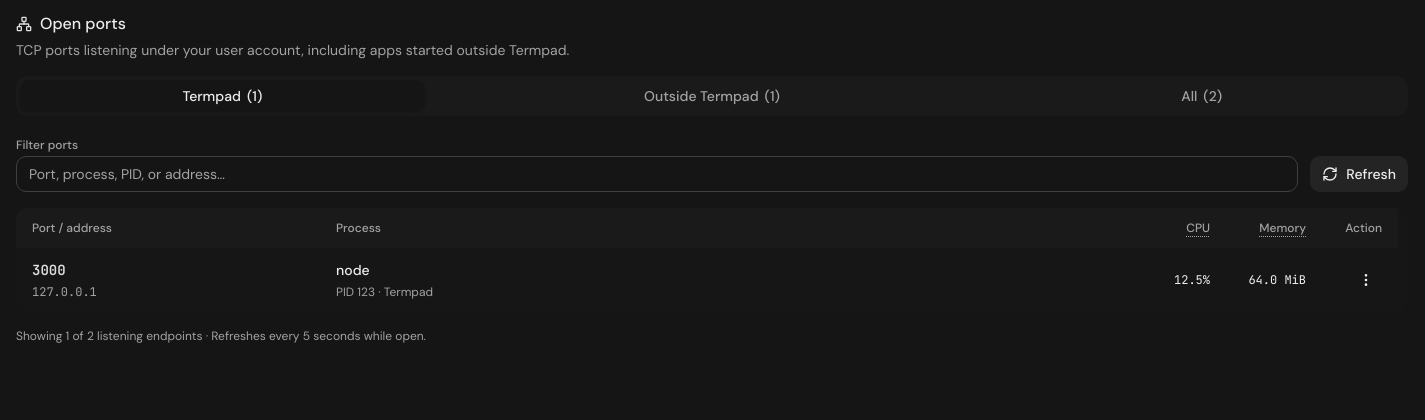
Open ports › keeps the dialog open if the terminal was closed since scanning
Press Enter in the button named "Actions for node on port 3000 (PID 123)", box left=1350, top=264, right=1382, bottom=296
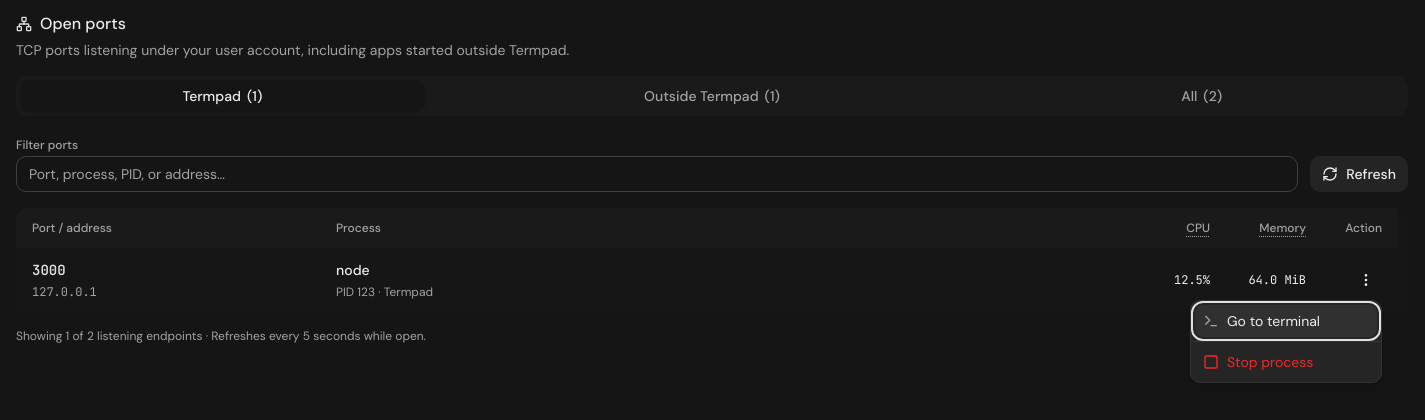
Check: the menu is shown, box left=1190, top=300, right=1382, bottom=383
Click the menu item "Go to terminal".
click(1286, 321)  # box left=1195, top=305, right=1377, bottom=337
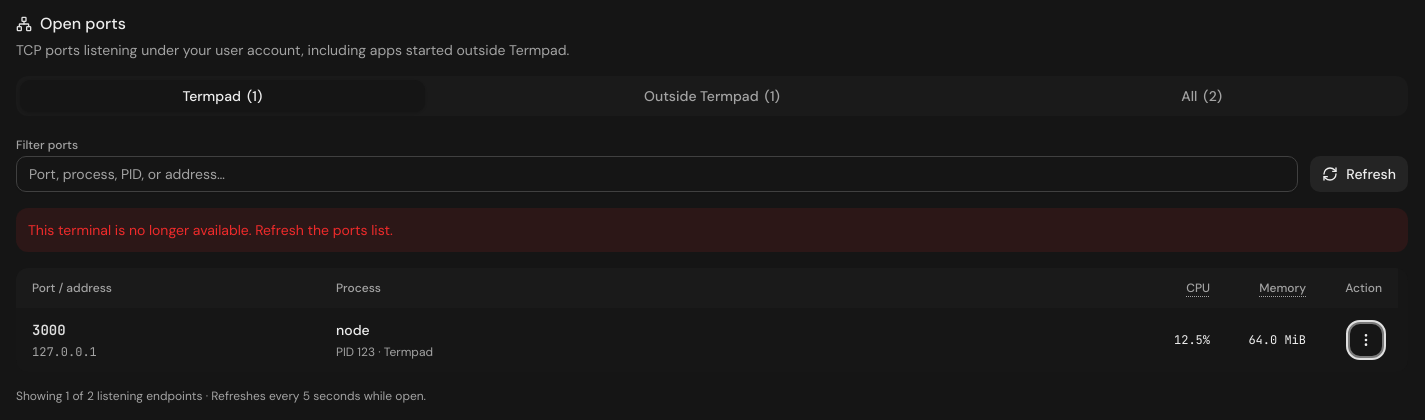
Check: the message shows "terminal is no longer available", box left=28, top=221, right=393, bottom=239
